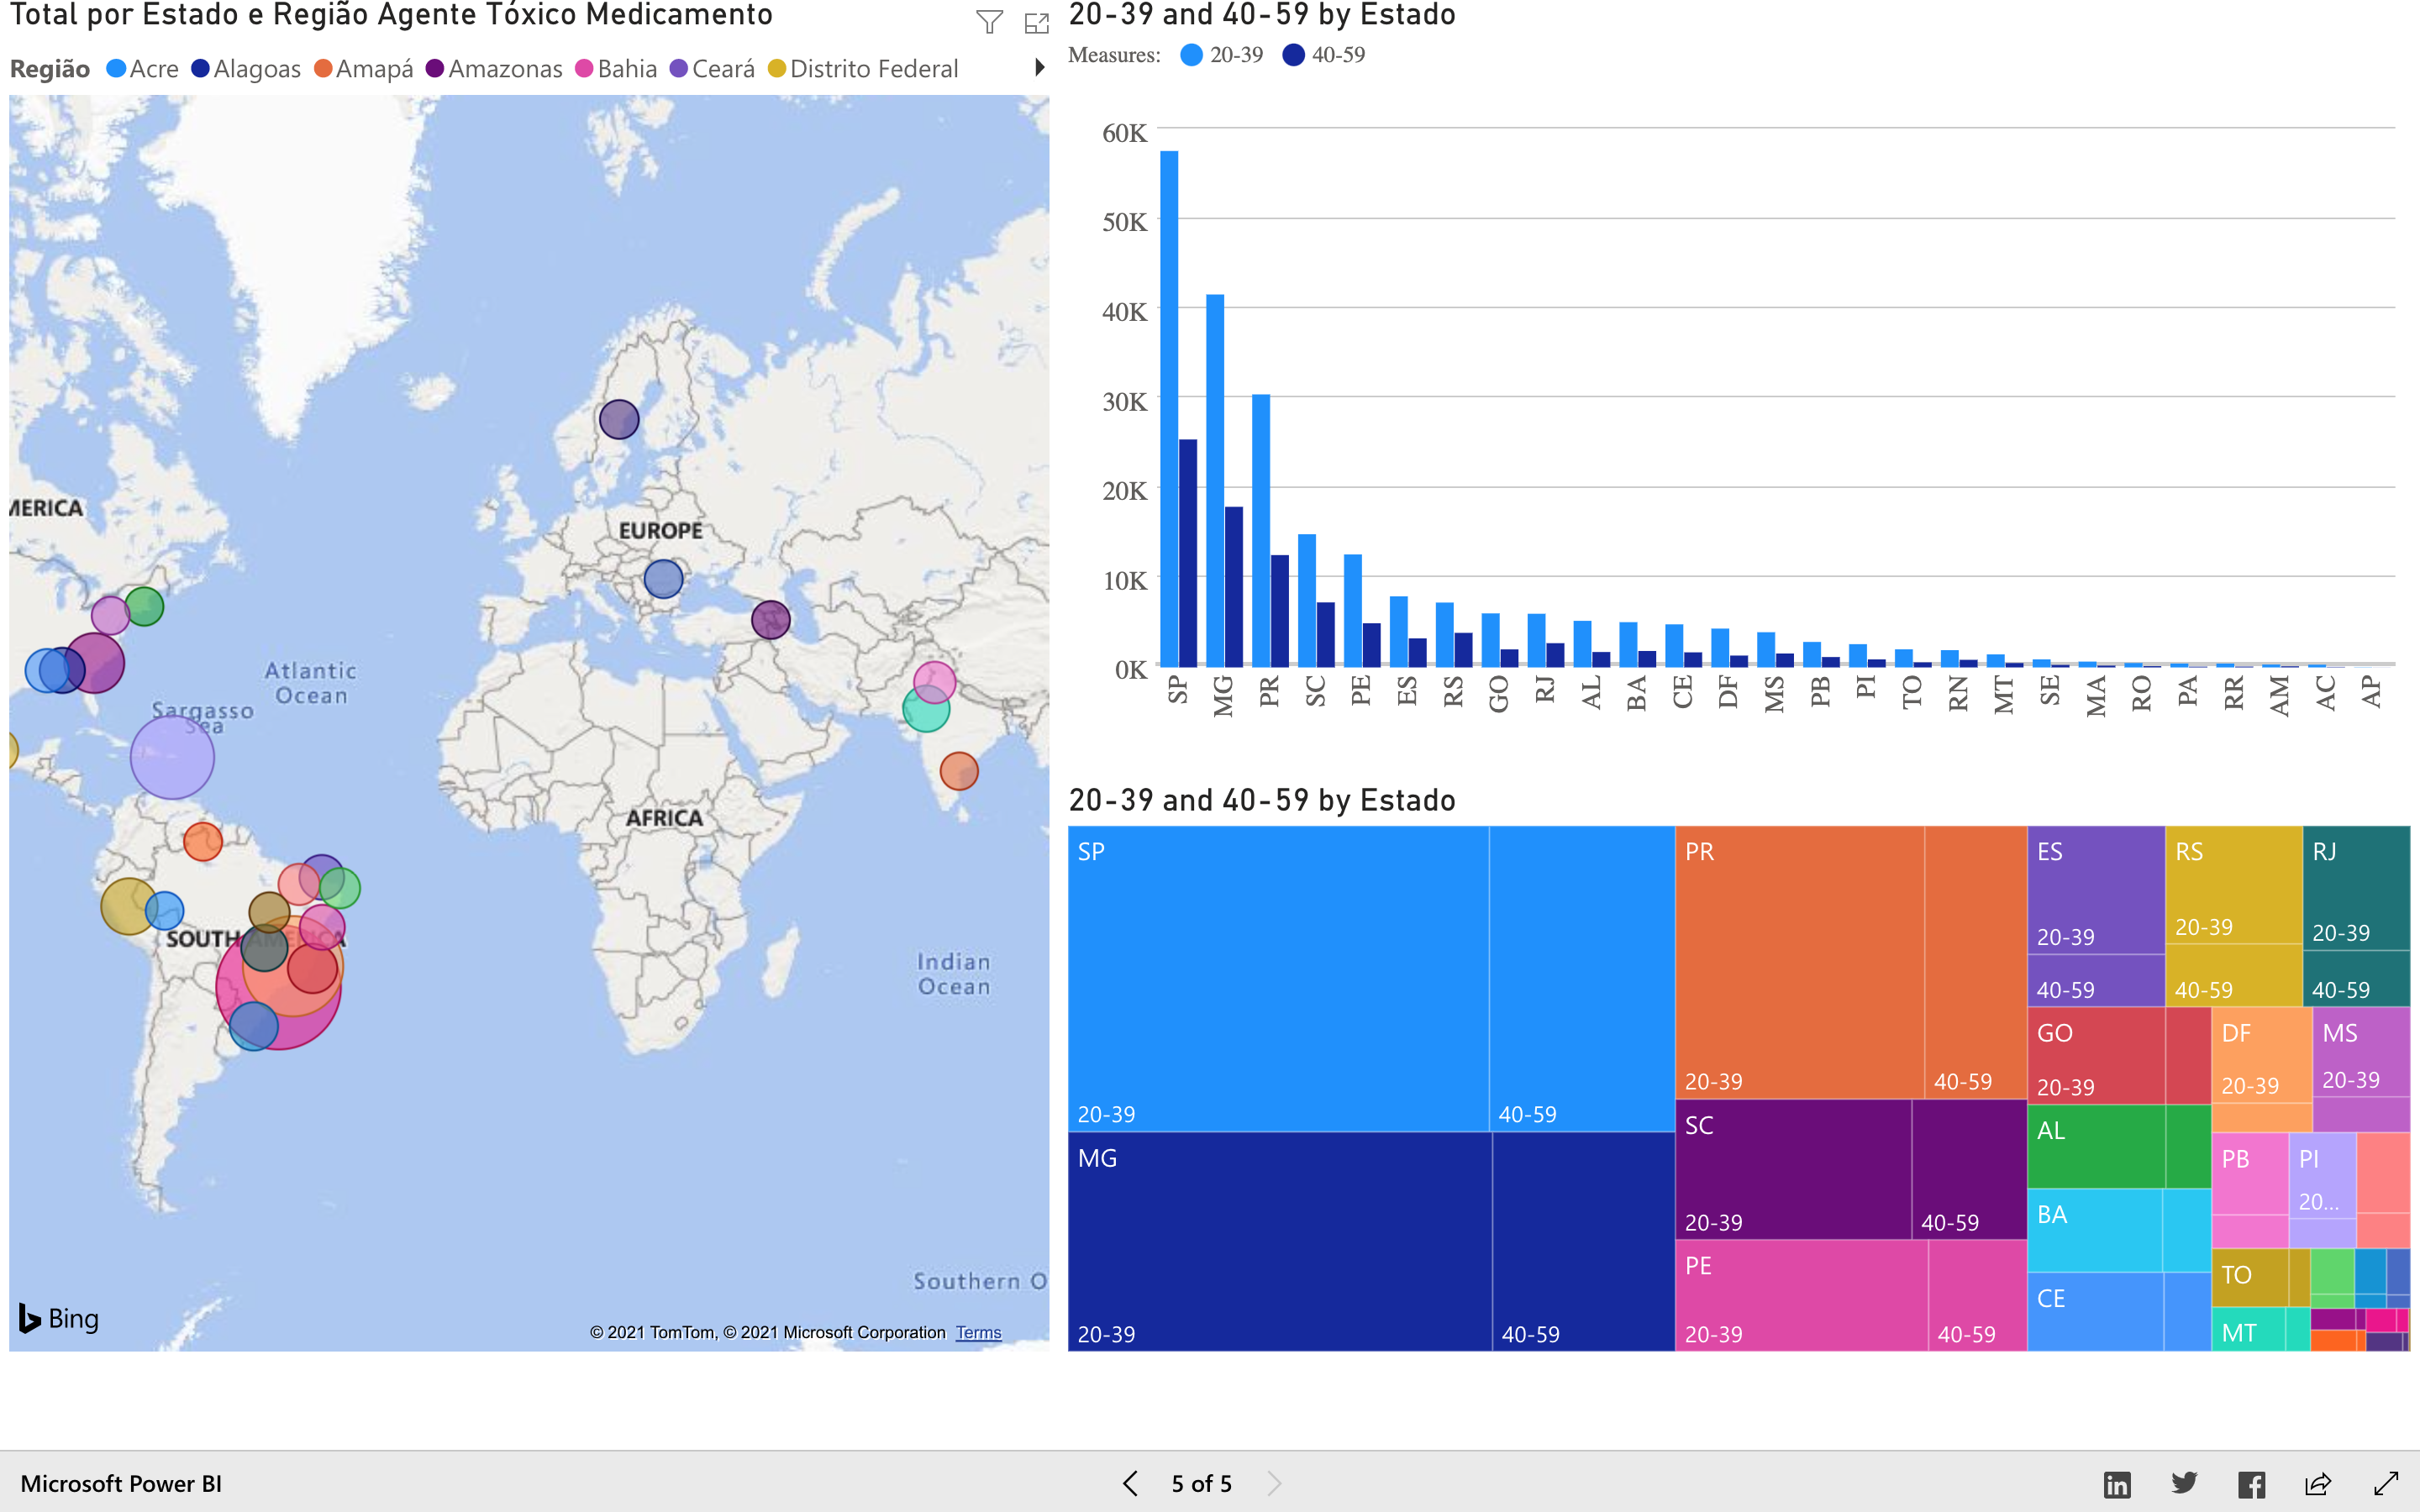

The page's visual inventory and layout, read from the dashboard file:
{"tool":"powerbi","page":{"name":"Mapa_Brasil_Total_Agentes_Tóxicos","canvas":[1280,720],"ordinal":2},"visuals":[{"type":"map","title":"Total por Estado e Região Agente Tóxico Medicamento","fields":{"Category":["2007_a_2020_mensal_agentes_tóxi.Estado"],"Series":["2007_a_2020_mensal_agentes_tóxi.Região"],"Size":["Sum(2007_a_2020_mensal_agentes_tóxi.Medicamento)"]},"box":[0,0,560,720],"z":0},{"type":"PBI_CV_73744D90_4DC9_4F18_8BA5_EE8FA5C98035","fields":{"Category":["2007_a_2020_mensal_agentes_tóxi.Estado"],"Values":["Sum(2007_a_2020_mensal_agentes_tóxi.Medicamento)"]},"box":[560,0,720,416],"z":1000},{"type":"WordCloud1447959067750","fields":{"Values":["Sum(2007_a_2020_mensal_agentes_tóxi.Total)"],"Category":["2007_a_2020_mensal_agentes_tóxi.Região"]},"box":[560,416,720,304],"z":1001}]}

Visuals, with their boxes on the page's 1280x720 design canvas (x1, y1, x2, y2). These are canvas units, not pixel positions in the 2420x1512 screenshot, which may show the page scaled, cropped or inside an application window:
"Total por Estado e Região Agente Tóxico Medicamento" map: 0:0:560:720
PBI_CV_73744D90_4DC9_4F18_8BA5_EE8FA5C98035 - 2007_a_2020_mensal_agentes_tóxi.Estado x Sum(2007_a_2020_mensal_agentes_tóxi.Medicamento): 560:0:1280:416
WordCloud1447959067750 - Sum(2007_a_2020_mensal_agentes_tóxi.Total) x 2007_a_2020_mensal_agentes_tóxi.Região: 560:416:1280:720
